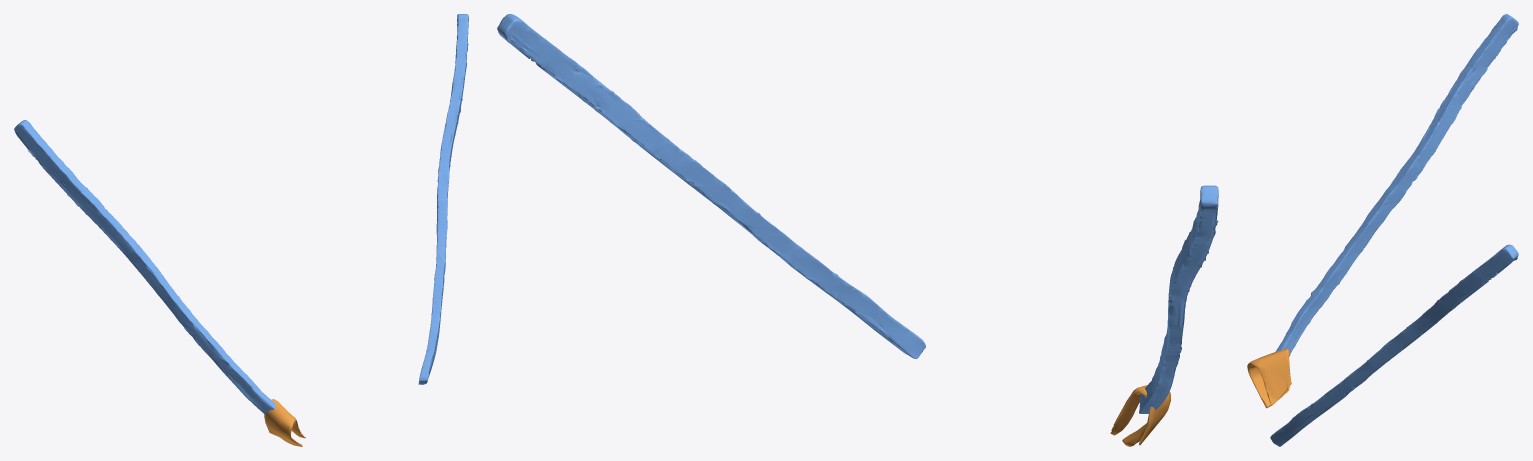
The model's file is supplement-head-neck-connective.glb.
3 views of the same model, side by side, from view 1: azimuth 30°, elevation 25°; view 2: azimuth 150°, elevation 25°; view 3: azimuth 270°, elevation 25° (orthographic). The views are drawn at different scales.
Visible parts, largest first — view 1: supplemental:stylohyoid-ligament:isa:FJ2764, supplemental:stylohyoid-ligament:isa:FJ2763, supplemental:intermediate-tendon:isa:FJ1581; view 2: supplemental:stylohyoid-ligament:isa:FJ2763, supplemental:stylohyoid-ligament:isa:FJ2764, supplemental:intermediate-tendon:isa:FJ1581; view 3: supplemental:stylohyoid-ligament:isa:FJ2764, supplemental:stylohyoid-ligament:isa:FJ2763, supplemental:intermediate-tendon:isa:FJ1581.
Part boxes in pixels (left/top/right/bottom): supplemental:stylohyoid-ligament:isa:FJ2764: left=14, top=120, right=274, bottom=415; supplemental:stylohyoid-ligament:isa:FJ2763: left=418, top=14, right=468, bottom=384; supplemental:intermediate-tendon:isa:FJ1581: left=264, top=399, right=305, bottom=446; supplemental:stylohyoid-ligament:isa:FJ2763: left=497, top=14, right=925, bottom=358; supplemental:stylohyoid-ligament:isa:FJ2764: left=1139, top=185, right=1218, bottom=413; supplemental:intermediate-tendon:isa:FJ1581: left=1110, top=385, right=1170, bottom=446; supplemental:stylohyoid-ligament:isa:FJ2764: left=1275, top=14, right=1518, bottom=356; supplemental:stylohyoid-ligament:isa:FJ2763: left=1270, top=244, right=1518, bottom=446; supplemental:intermediate-tendon:isa:FJ1581: left=1247, top=348, right=1291, bottom=408.
Size of the model in its own units: 0.083 by 0.0496 by 0.04.
